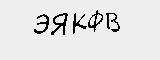В: (103, 10, 125, 34)
К: (69, 7, 86, 39)
Ф: (87, 6, 103, 33)
Э: (32, 13, 50, 37)
Я: (49, 12, 69, 40)
